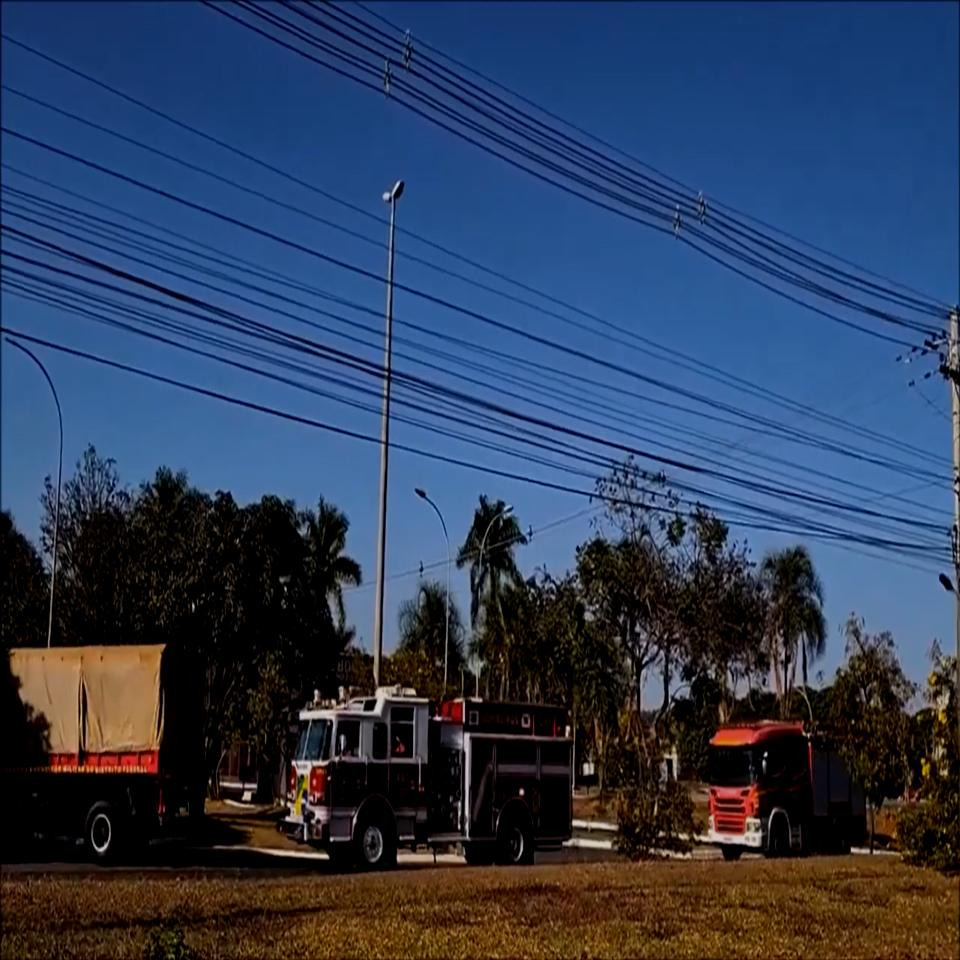bombeiro: (278, 685, 573, 867), (708, 718, 867, 858)
